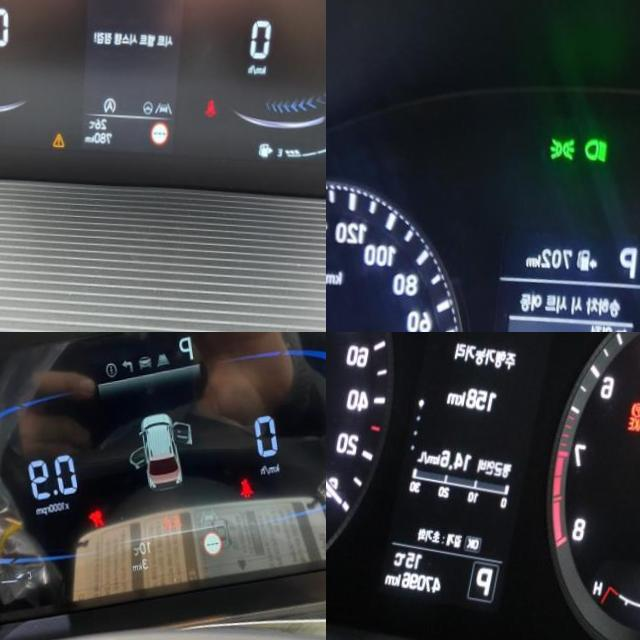Central Warning lamp: (54, 131, 68, 147)
LaneCenteringOff: (157, 100, 175, 115)
Low beam: (585, 135, 613, 162)
SideLamp: (550, 132, 580, 162)
